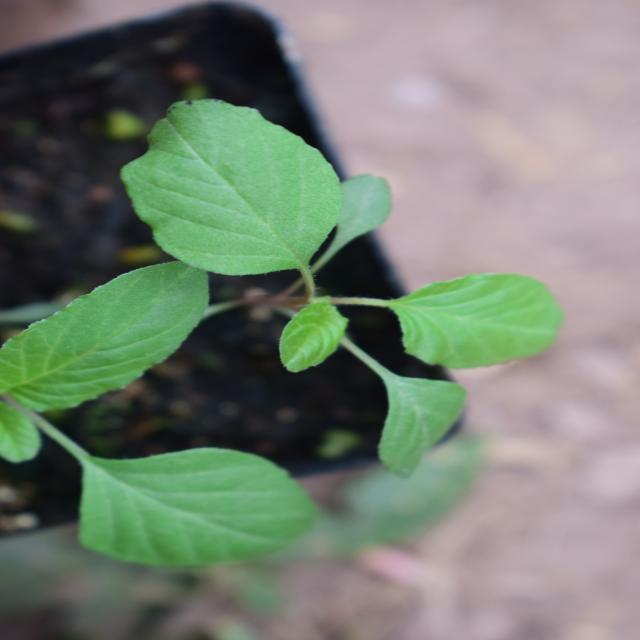pigweed: (90, 108, 449, 514)
